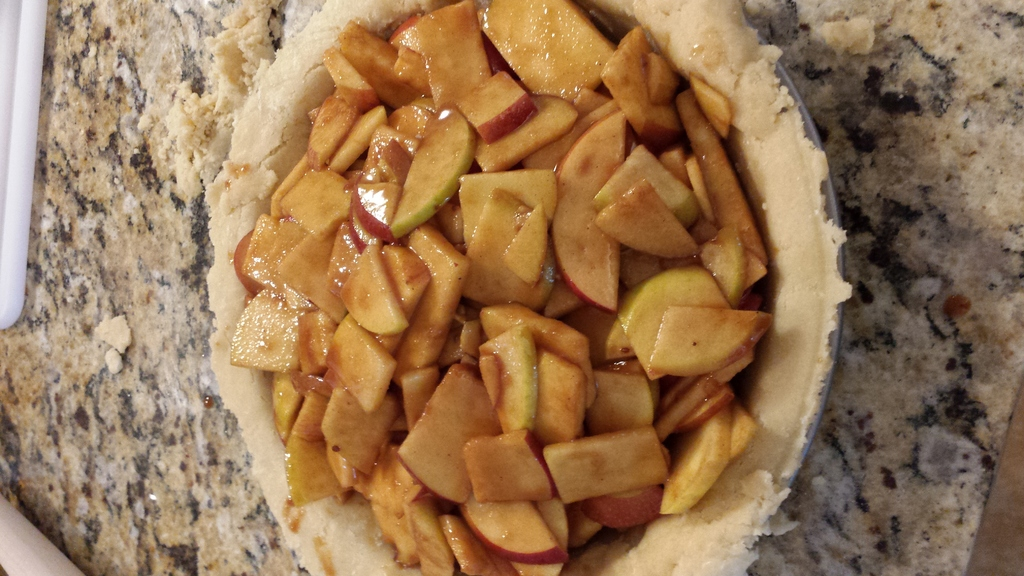Apple: (225, 0, 777, 575), (547, 107, 623, 312)
